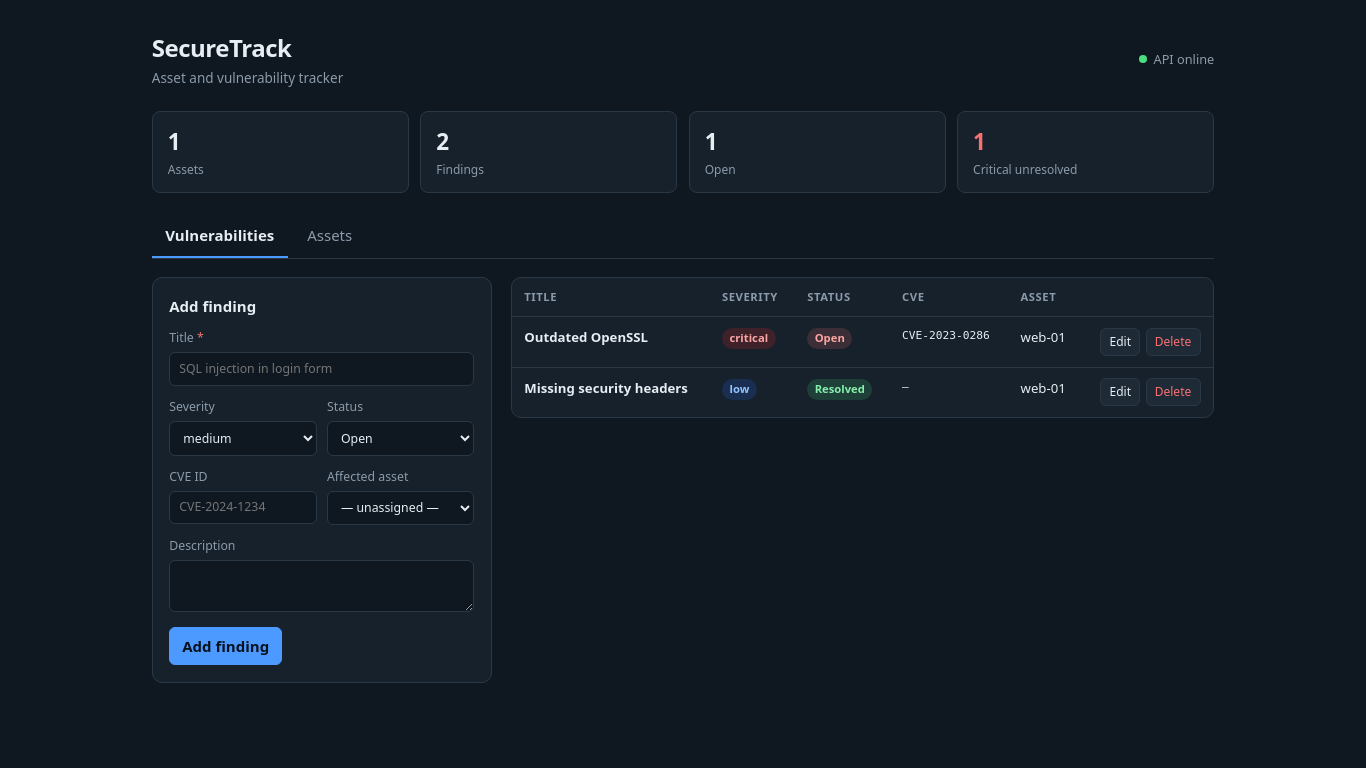
Test case: App › switches to the assets tab
Expected: the text "Outdated OpenSSL" is shown, [524, 328, 648, 346]
Click the button "Assets" at (330,236), box [294, 215, 366, 258]
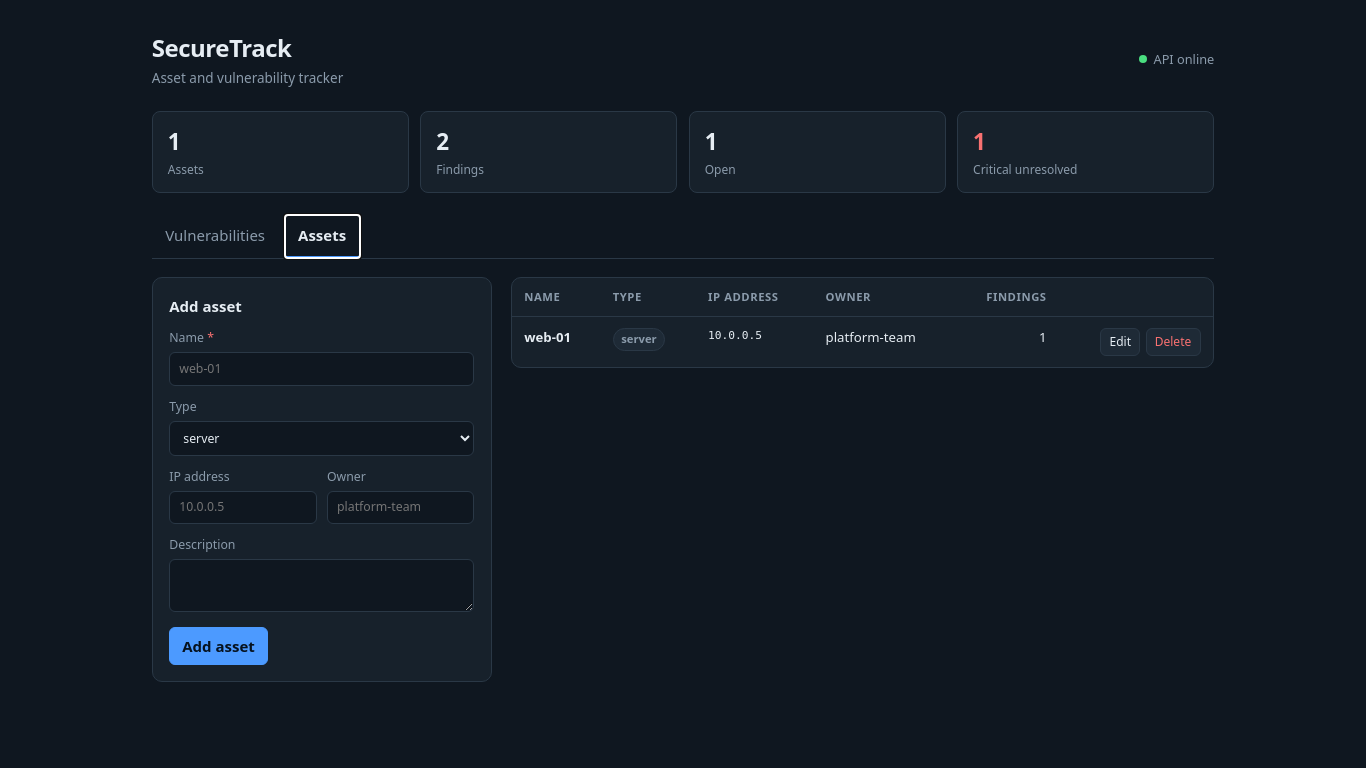
Now the heading "Add asset" is shown, box [169, 296, 242, 316]
Now the text "platform-team" is shown, box [813, 317, 954, 366]
